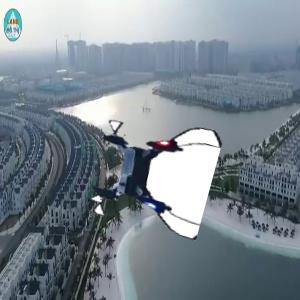drone: (90, 114, 213, 237)
